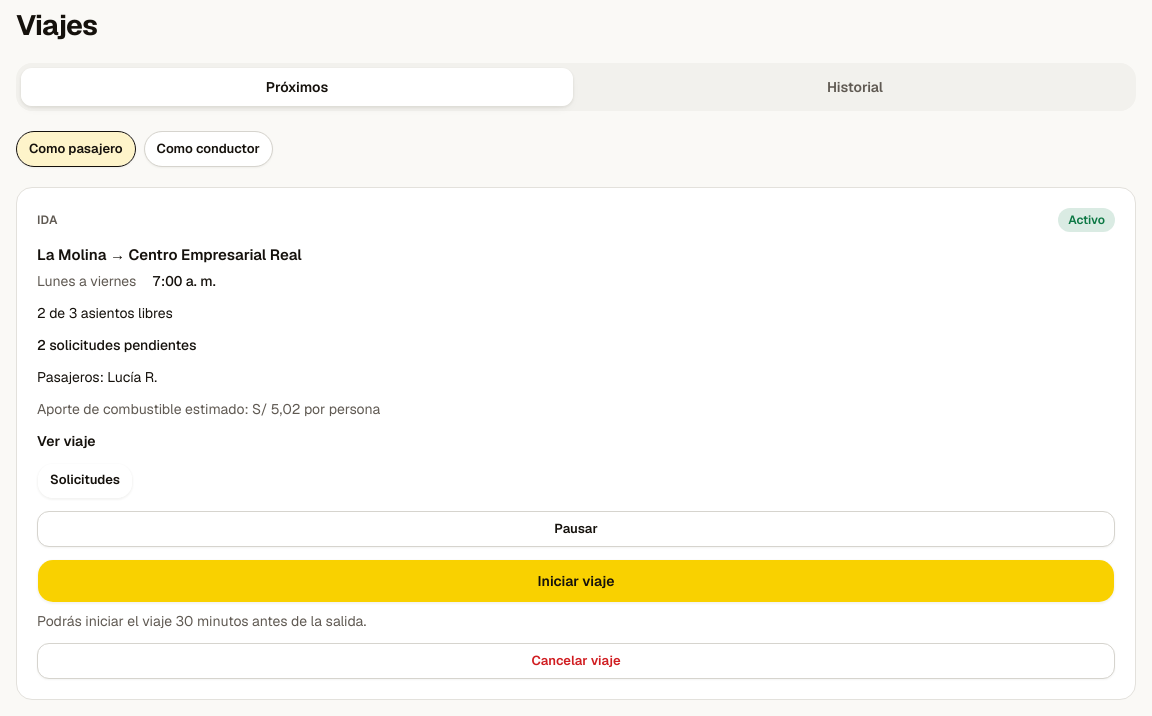
Test case: Viajes › keeps the offer as it was when pausing fails
Click the button "Como conductor".
click(208, 149)  # box x1=144 y1=131 x2=273 y2=167
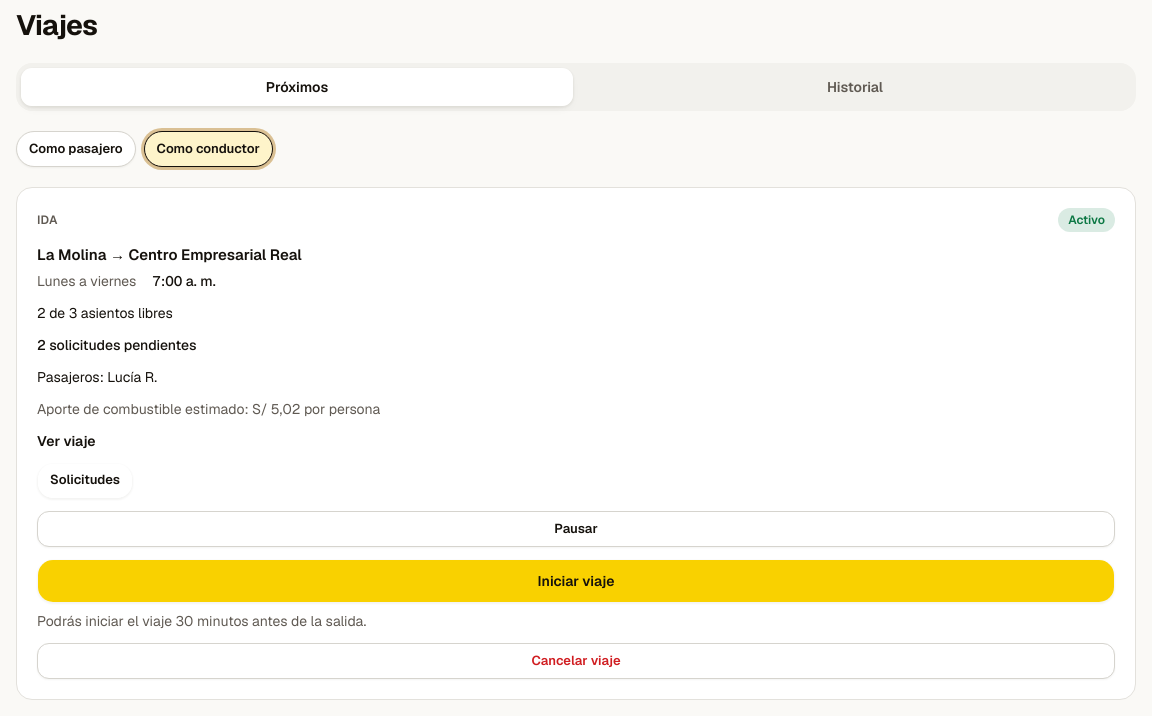
Click the button "Pausar".
click(576, 528)  # box x1=37 y1=510 x2=1115 y2=546
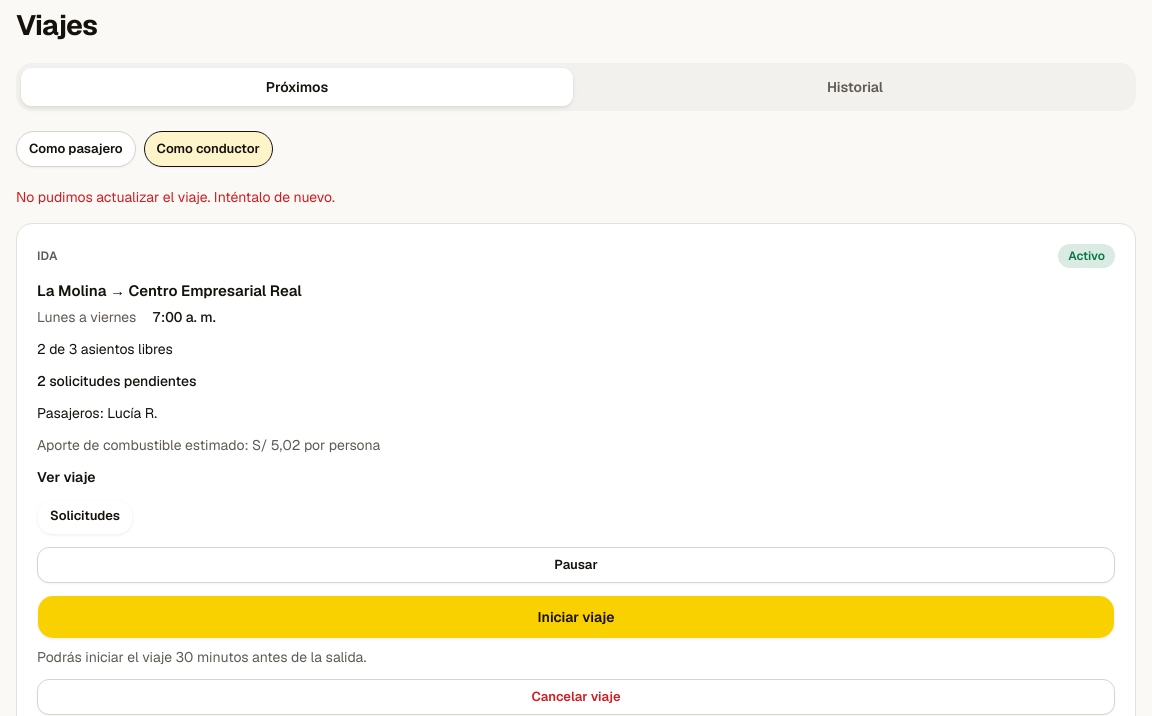
Check: the text "Activo" is shown, box x1=1058 y1=244 x2=1115 y2=268
Check: the message reads "No pudimos actualizar el viaje. Inténtalo de nuevo.", box x1=16 y1=188 x2=335 y2=206
